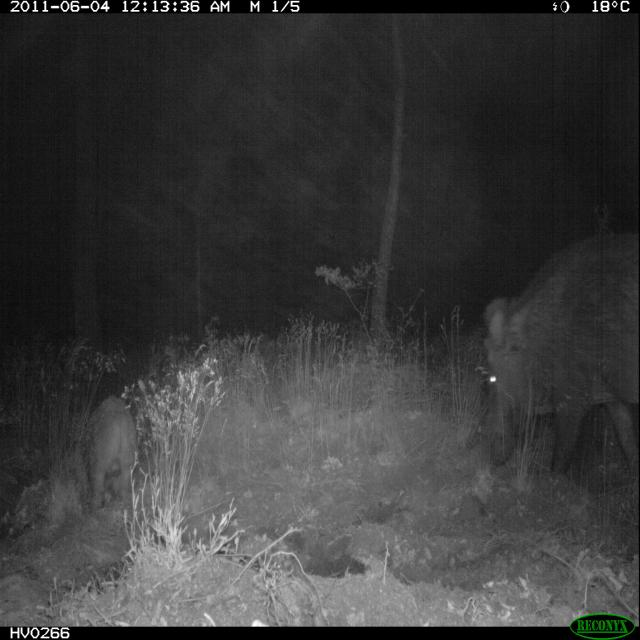boar: (447, 184, 640, 486), (72, 353, 152, 518)
